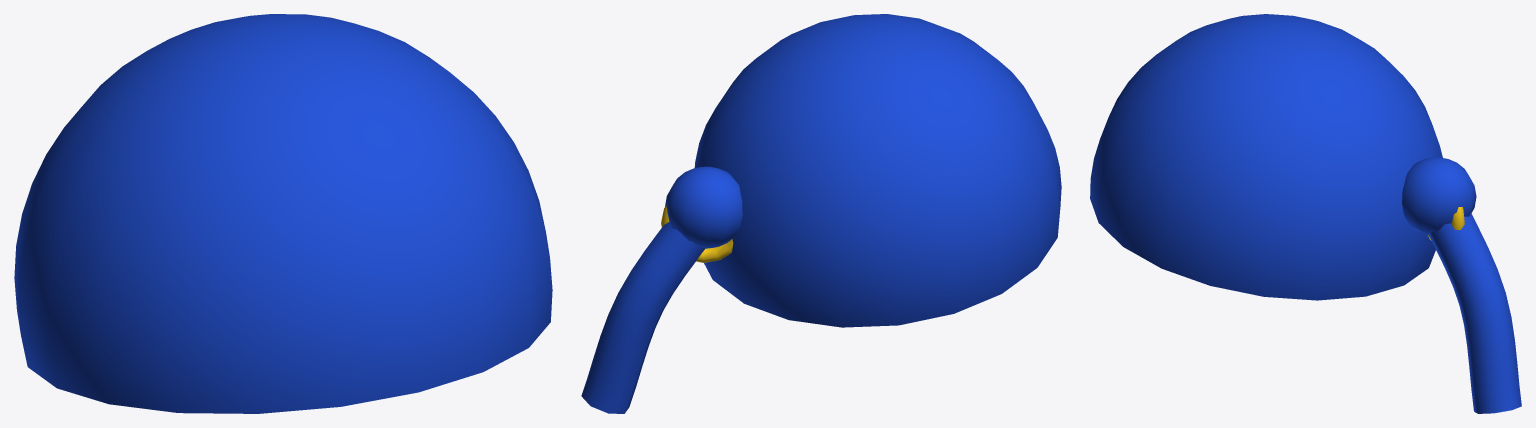
The model's file is bandana.glb.
3 renders of one model, left to right at view 1: azimuth 30°, elevation 25°; view 2: azimuth 150°, elevation 25°; view 3: azimuth 270°, elevation 25°, orthographic. The views are drawn at different scales.
Parts seen in each view (by area): view 1: bandana_wrap; view 2: bandana_wrap, bandana_tail, bandana_knot, bandana_ring; view 3: bandana_wrap, bandana_tail, bandana_knot.
Boxes of the visible parts, bbox=[...] form: bandana_wrap: bbox=[14, 14, 552, 413]; bandana_wrap: bbox=[694, 14, 1061, 327]; bandana_tail: bbox=[581, 222, 705, 413]; bandana_knot: bbox=[665, 166, 742, 248]; bandana_ring: bbox=[661, 206, 733, 262]; bandana_wrap: bbox=[1090, 14, 1442, 300]; bandana_tail: bbox=[1429, 213, 1521, 413]; bandana_knot: bbox=[1402, 157, 1476, 234].
Size of the model in its own units: 0.2421 by 0.2267 by 0.2826.
